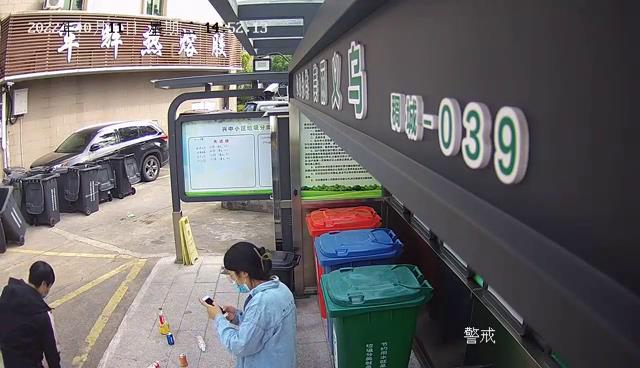lvzhipin: (178, 351, 188, 368), (166, 332, 175, 345)
person: (1, 258, 61, 366)
suliaozhipin: (156, 305, 171, 335), (196, 335, 207, 353)
worker: (198, 241, 300, 368)
